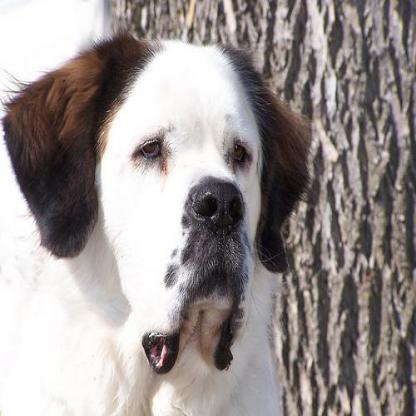Saint_Bernard: (0, 29, 314, 414)
